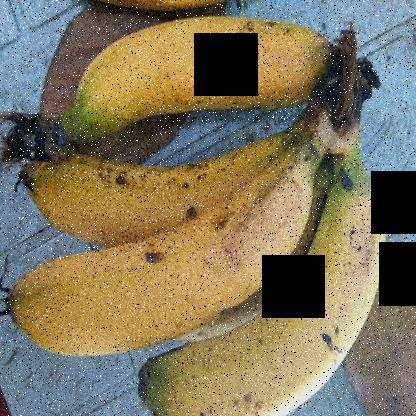ripe: (12, 170, 303, 394), (143, 183, 389, 416), (26, 99, 322, 244), (75, 9, 346, 141)
